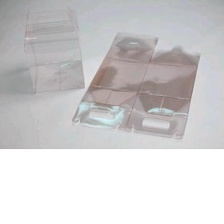plastic_box: (65, 24, 208, 142), (14, 0, 90, 98)
